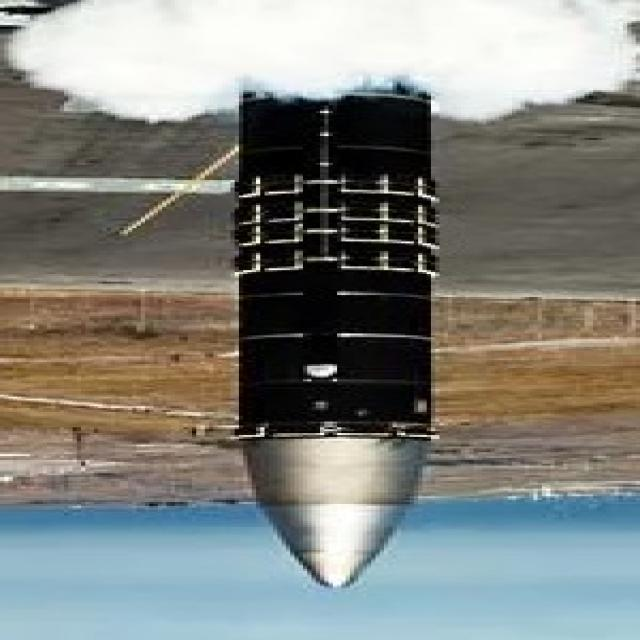missile: (189, 37, 450, 594)
